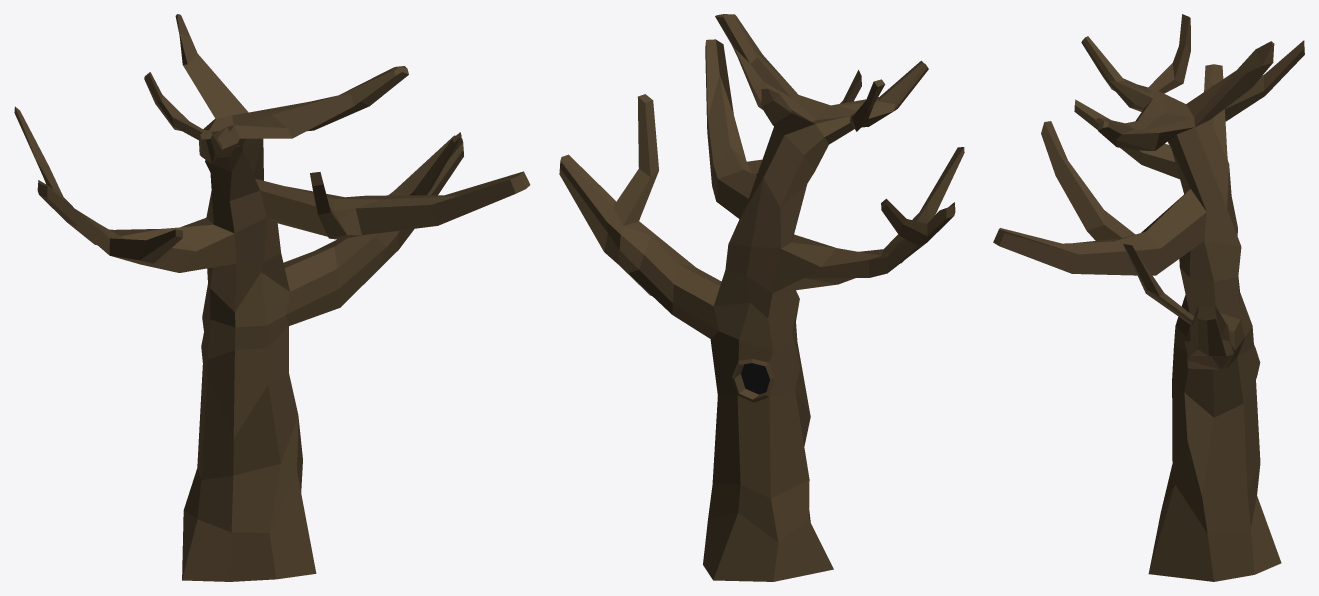
Rendered from Tree03.fbx.
The picture shows the model from 3 angles, left to right: view 1: azimuth 30°, elevation 25°; view 2: azimuth 150°, elevation 25°; view 3: azimuth 270°, elevation 25°; orthographic projection. The views are drawn at different scales.
Visible parts, largest first — view 1: Trunk; view 2: Trunk; view 3: Trunk.
Part boxes in pixels (x1,y1,x2,y2): Trunk: [14, 14, 530, 581]; Trunk: [559, 14, 964, 581]; Trunk: [993, 14, 1304, 581].
Size of the model in its own units: 7.65 by 9.22 by 5.23.
